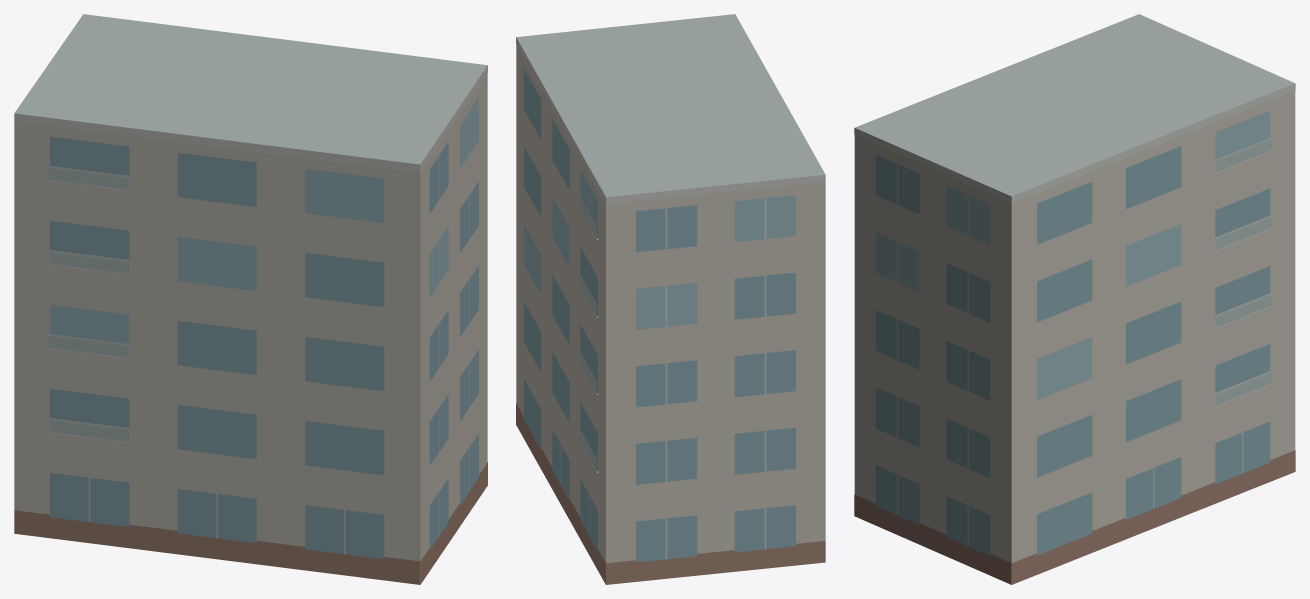
Rendered from survey-upis-32722717.glb.
The picture shows the model from 3 angles, left to right: view 1: azimuth 30°, elevation 25°; view 2: azimuth 150°, elevation 25°; view 3: azimuth 270°, elevation 25°; orthographic projection. The views are drawn at different scales.
Parts seen in each view (by area): view 1: survey-upis-32722717.tmp; view 2: survey-upis-32722717.tmp; view 3: survey-upis-32722717.tmp.
Part boxes in pixels (box(x1,y1,x2,y2)): survey-upis-32722717.tmp: box(14, 14, 487, 584); survey-upis-32722717.tmp: box(516, 14, 825, 584); survey-upis-32722717.tmp: box(854, 14, 1295, 584).
Size of the model in its own units: 13.4 by 13.3 by 13.69.
